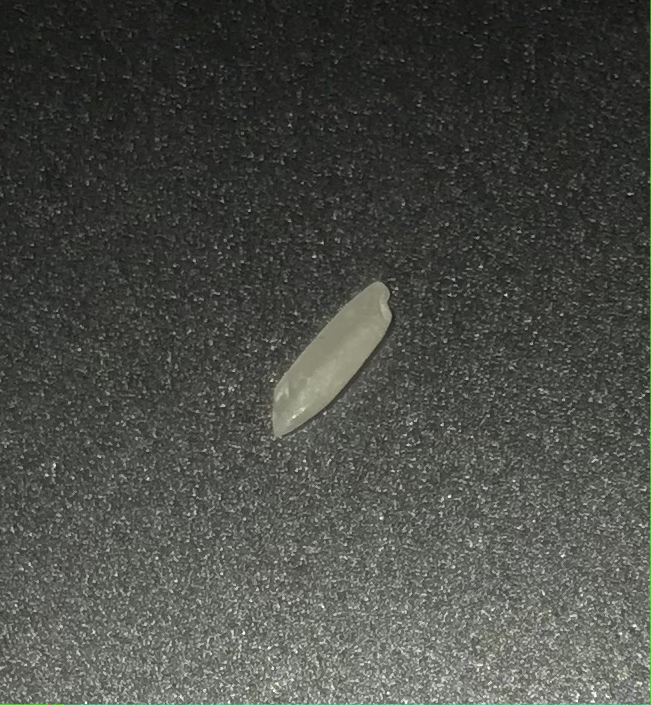Gao Long Lai: (268, 270, 397, 449)
